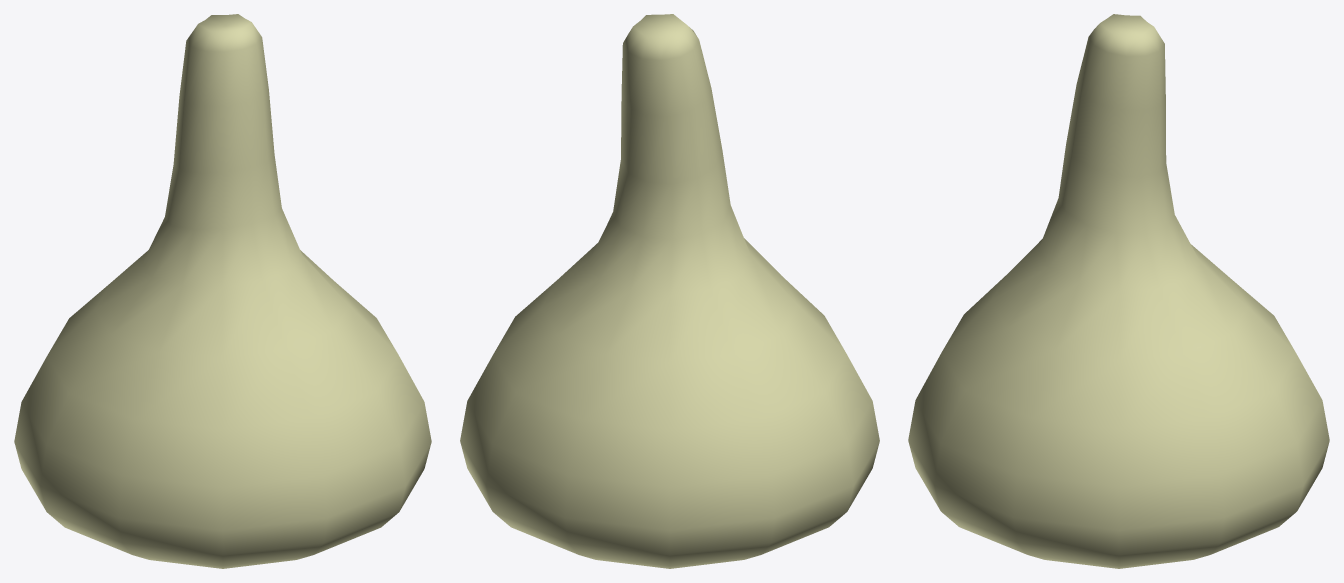
File: garlic.fbx
The picture shows the model from 3 angles, left to right: view 1: azimuth 30°, elevation 25°; view 2: azimuth 150°, elevation 25°; view 3: azimuth 270°, elevation 25°; orthographic projection.
Visible parts, largest first — view 1: pSphere1; view 2: pSphere1; view 3: pSphere1.
Part boxes in pixels (box(x1,y1,x2,y2)): pSphere1: box(14, 14, 431, 568); pSphere1: box(460, 14, 879, 568); pSphere1: box(908, 14, 1329, 568).
Bounding box in the file's own units: 1.69 × 2.23 × 1.67.
